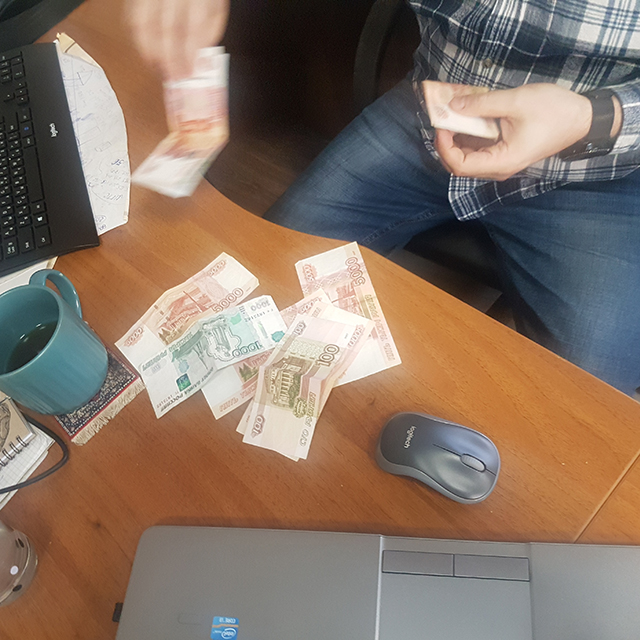banknotes: (138, 293, 285, 420), (120, 254, 258, 375), (255, 308, 362, 460), (126, 46, 229, 196), (297, 242, 398, 375), (421, 76, 499, 137)
